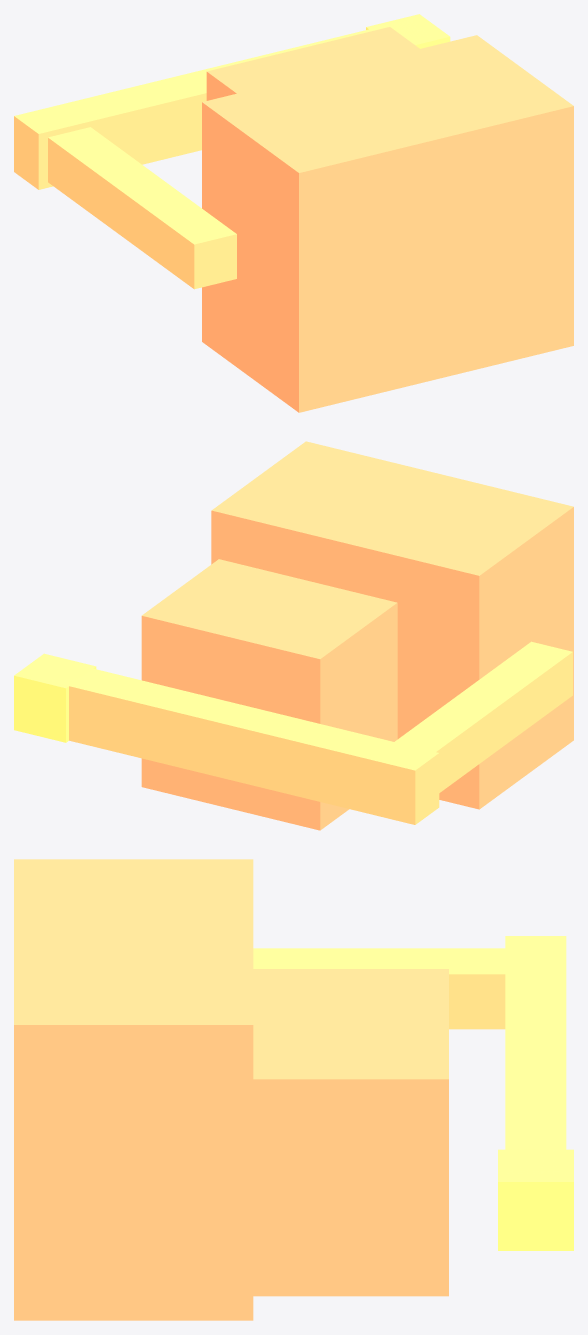
The model's file is interact_hazard_canyon.glb.
The picture shows the model from 3 angles, top to bottom: view 1: azimuth 30°, elevation 25°; view 2: azimuth 150°, elevation 25°; view 3: azimuth 270°, elevation 25°; orthographic projection. The views are drawn at different scales.
Parts seen in each view (by area): view 1: interact_hazard_canyon; view 2: interact_hazard_canyon; view 3: interact_hazard_canyon.
Boxes of the visible parts, left/top/right/bottom form: interact_hazard_canyon: left=14, top=14, right=573, bottom=412; interact_hazard_canyon: left=14, top=441, right=573, bottom=830; interact_hazard_canyon: left=14, top=859, right=573, bottom=1320.
Size of the model in its own units: 2.67 by 1.5 by 2.58.
